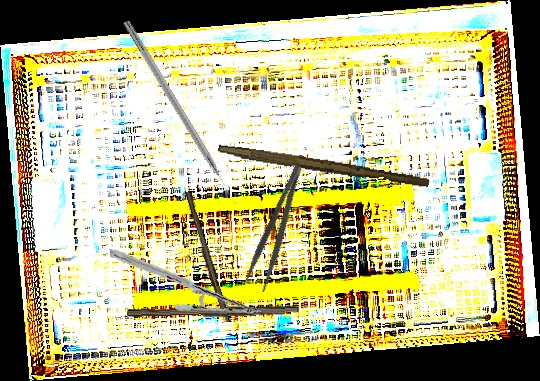Dressing Forceps: (240, 153, 321, 293)
Hook Surgical: (121, 19, 240, 207)
Needle Holder: (109, 231, 262, 334)
Scalpel Handle: (216, 144, 431, 189), (181, 190, 233, 324), (126, 303, 300, 322)
